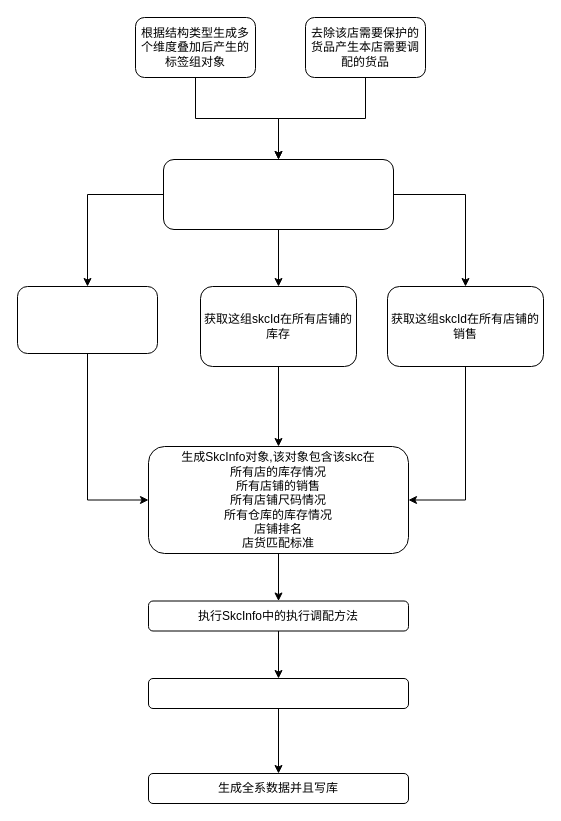
This 561x821 diagram has some shape labels left out. Here are the shapes that lost their labels. From the top down, the centre of each, then its label:
At (278,194): "根据产生的标签组对象和需要调配的货品进行计算出每个标签组需要多少个skc数量及根据skc的全局排序优先获取哪些标签最后产生一组skcId".
At (87,320): "获取这组skcId在所有仓库库存".
At (278,693): "生成T empReplenishmentResultList对象".
